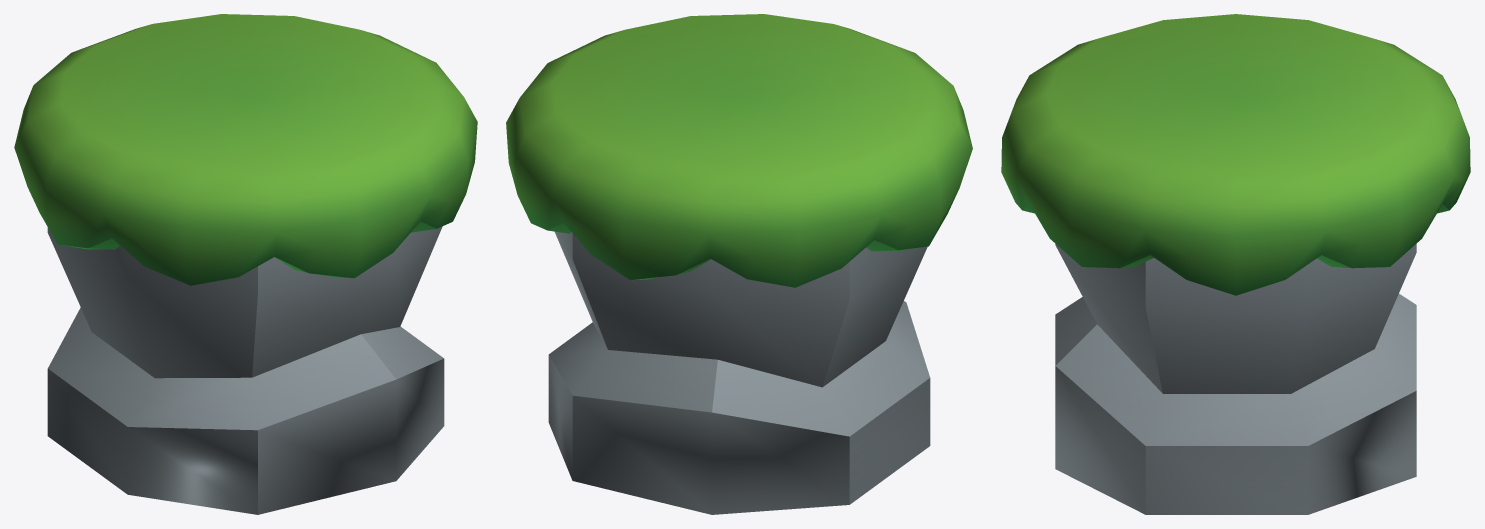
3 renders of one model, left to right at view 1: azimuth 30°, elevation 25°; view 2: azimuth 150°, elevation 25°; view 3: azimuth 270°, elevation 25°, orthographic.
Parts seen in each view (by area): view 1: Hill_2x2x2_Color1; view 2: Hill_2x2x2_Color1; view 3: Hill_2x2x2_Color1.
Boxes of the visible parts, box(x1,y1,x2,y2) form: Hill_2x2x2_Color1: box(14, 14, 477, 514); Hill_2x2x2_Color1: box(506, 14, 972, 514); Hill_2x2x2_Color1: box(1001, 14, 1470, 514).
Bounding box in the file's own units: 2.47 × 2 × 2.47.
1 material, 1 textured.
